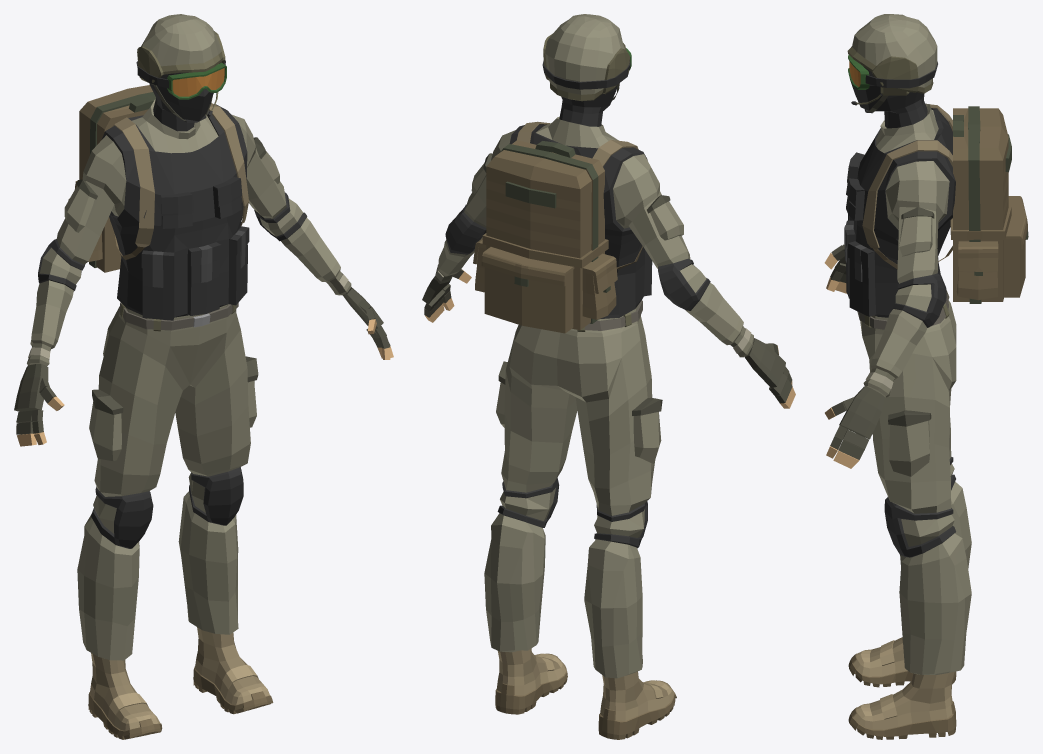
Rendered from Soldier by madtrollstudio - UL46oXeZYK.glb.
3 views of the same model, side by side, from view 1: azimuth 30°, elevation 25°; view 2: azimuth 150°, elevation 25°; view 3: azimuth 270°, elevation 25° (orthographic).
Visible parts, largest first — view 1: Cube.011; view 2: Cube.011; view 3: Cube.011.
Part boxes in pixels (x1=…): Cube.011: x1=14, y1=14, x2=393, y2=739; Cube.011: x1=422, y1=14, x2=795, y2=739; Cube.011: x1=824, y1=14, x2=1028, y2=739.
Bounding box in the file's own units: 1.06 × 1.92 × 0.5187.
1 material, 1 textured.
